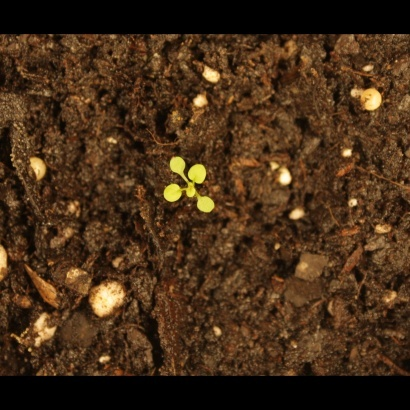leaf: (190, 160, 213, 185), (198, 196, 221, 219), (166, 154, 189, 177), (162, 182, 185, 205), (181, 181, 204, 204)
